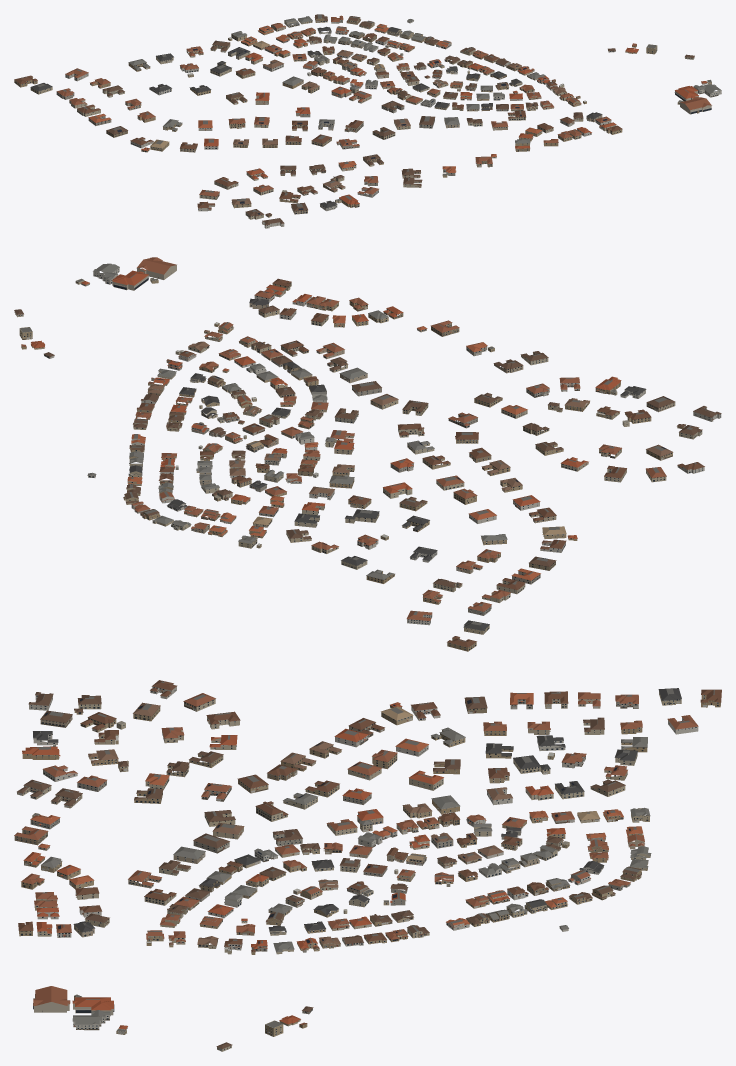
The picture shows the model from 3 angles, top to bottom: view 1: azimuth 30°, elevation 25°; view 2: azimuth 150°, elevation 25°; view 3: azimuth 270°, elevation 25°; orthographic projection. The views are drawn at different scales.
Visible parts, largest first — view 1: buildings_r2_c2_lod0; view 2: buildings_r2_c2_lod0; view 3: buildings_r2_c2_lod0.
Part boxes in pixels (x1,y1,x2,y2): buildings_r2_c2_lod0: (14,14,721,228); buildings_r2_c2_lod0: (14,257,721,651); buildings_r2_c2_lod0: (14,680,721,1051).
Bounding box in the file's own units: 1021 × 62.36 × 791.
